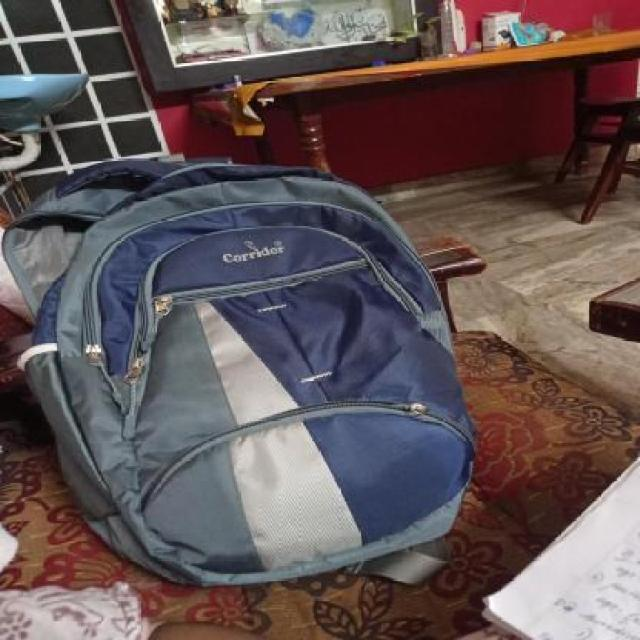backpack: (2, 149, 484, 594)
